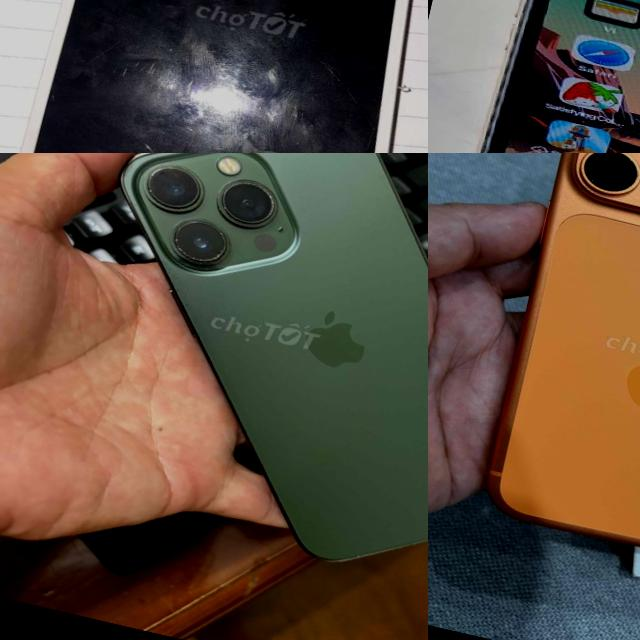gen_12_13: (44, 153, 428, 606)
gen_17: (457, 153, 640, 591)
gen_6: (20, 0, 409, 153), (428, 0, 640, 153)
